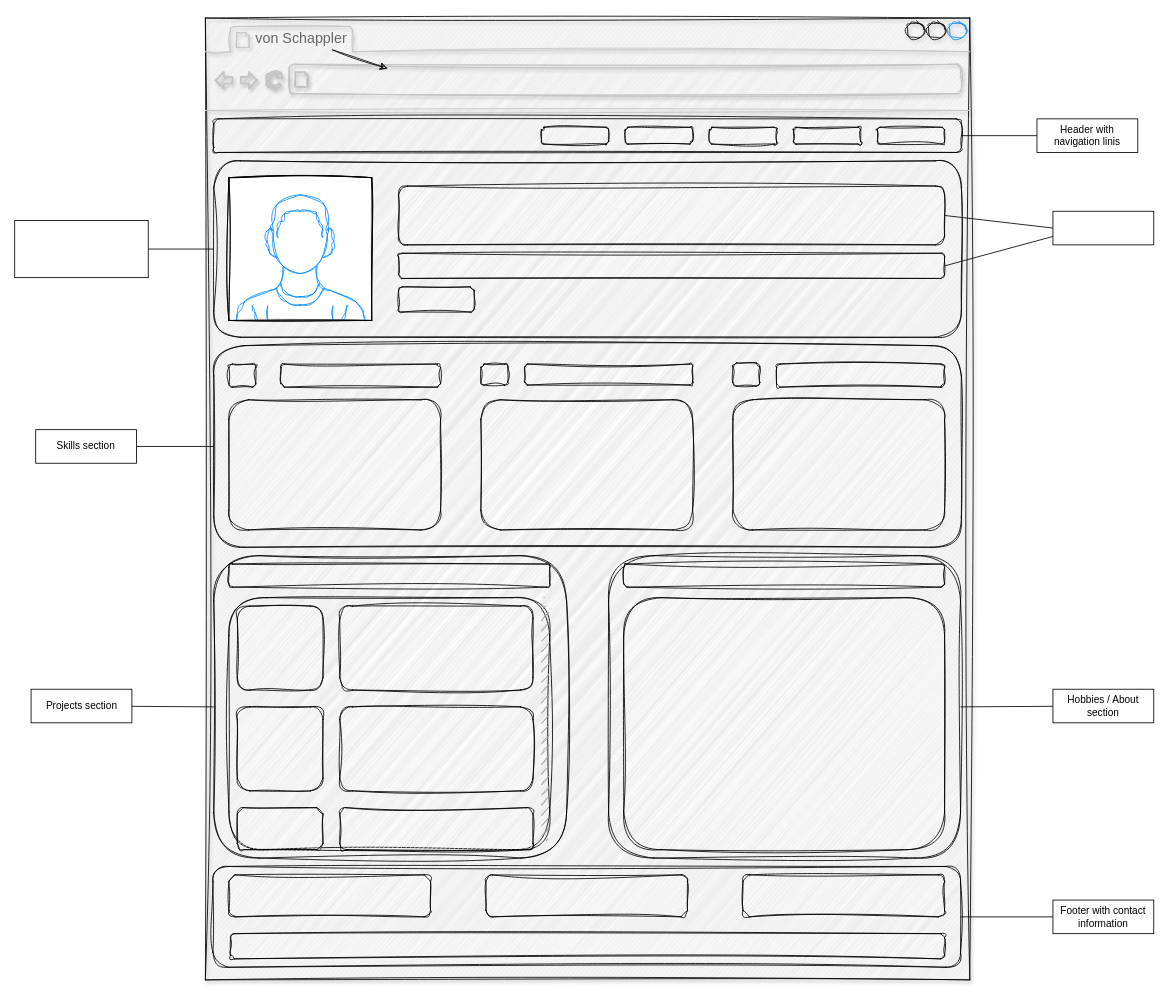
This 1172x1000 diagram has some shape labels left out. Each missing label, with the centre of its shape:
Headings with name and slogan: (1103,227)
Hero section with profile picture - this design can be changed if necessary: (81,249)
http://personal-site.com: (419,79)
